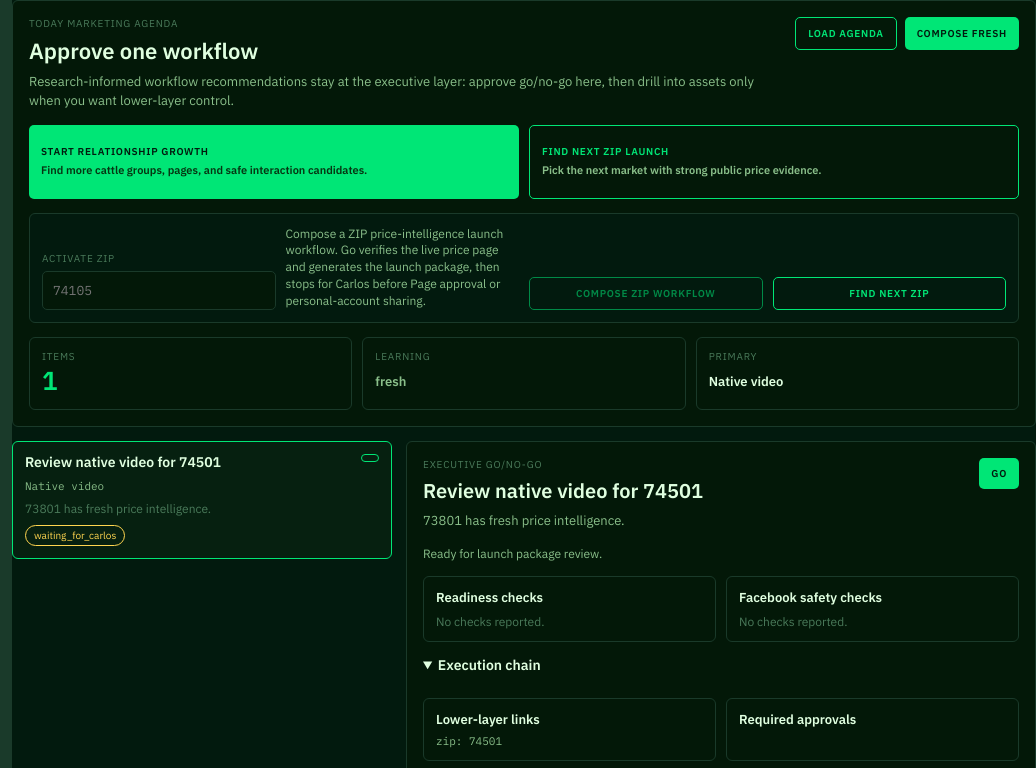
TodayAgendaWorkspace launch package review › selects the ZIP launch returned by Find next ZIP instead of leaving the prior workflow selected
expect the heading "Review native video for 74501" is shown: met, box top-left (423, 477), bottom-right (703, 504)
Click the button "Find next ZIP launch".
click(774, 162)  # box top-left (529, 125), bottom-right (1019, 199)
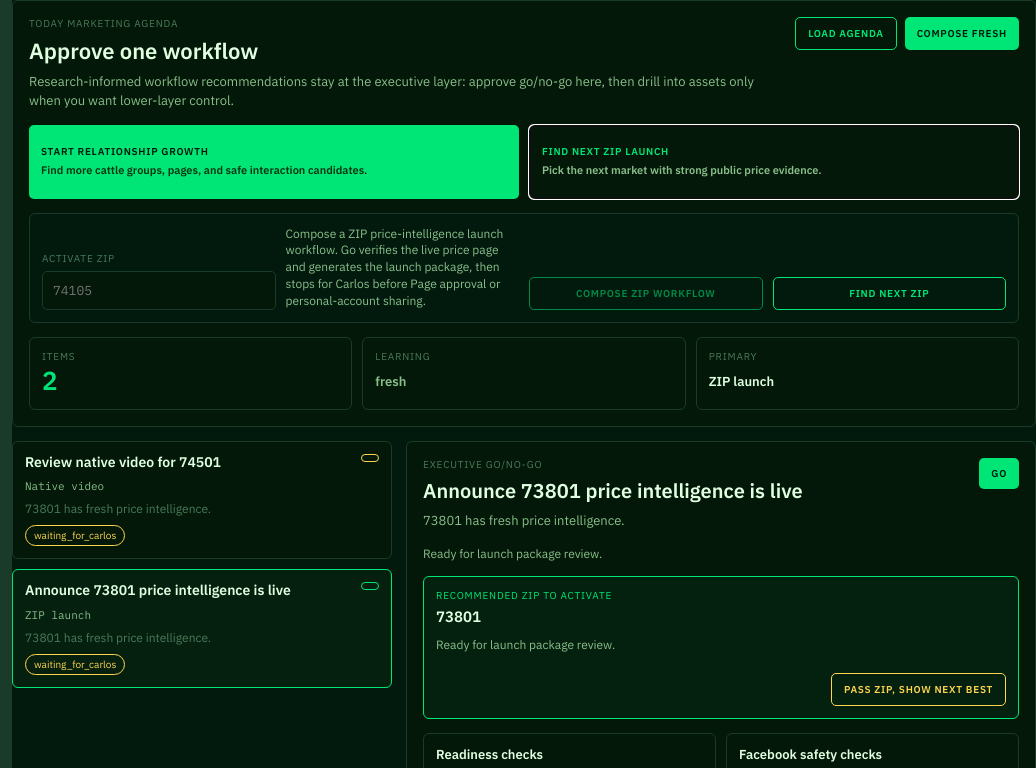
expect the heading "Announce 73801 price intelligence is live" is shown: met, box top-left (423, 477), bottom-right (803, 504)
